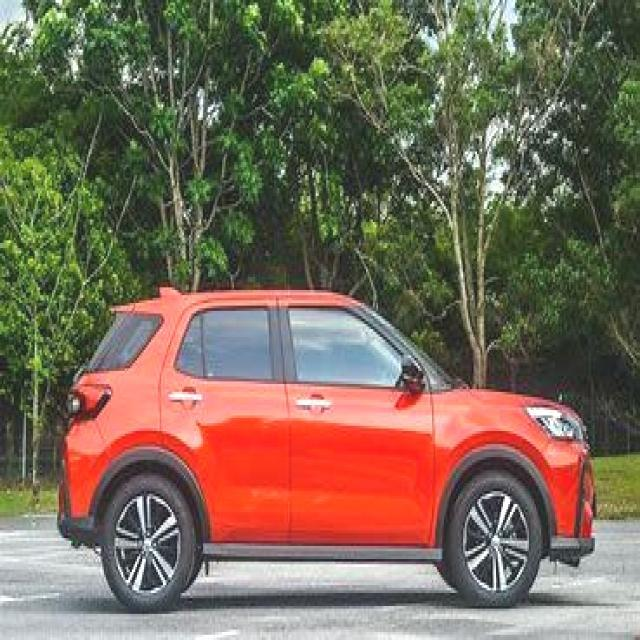PeroduaAtiva: (55, 283, 597, 611)
